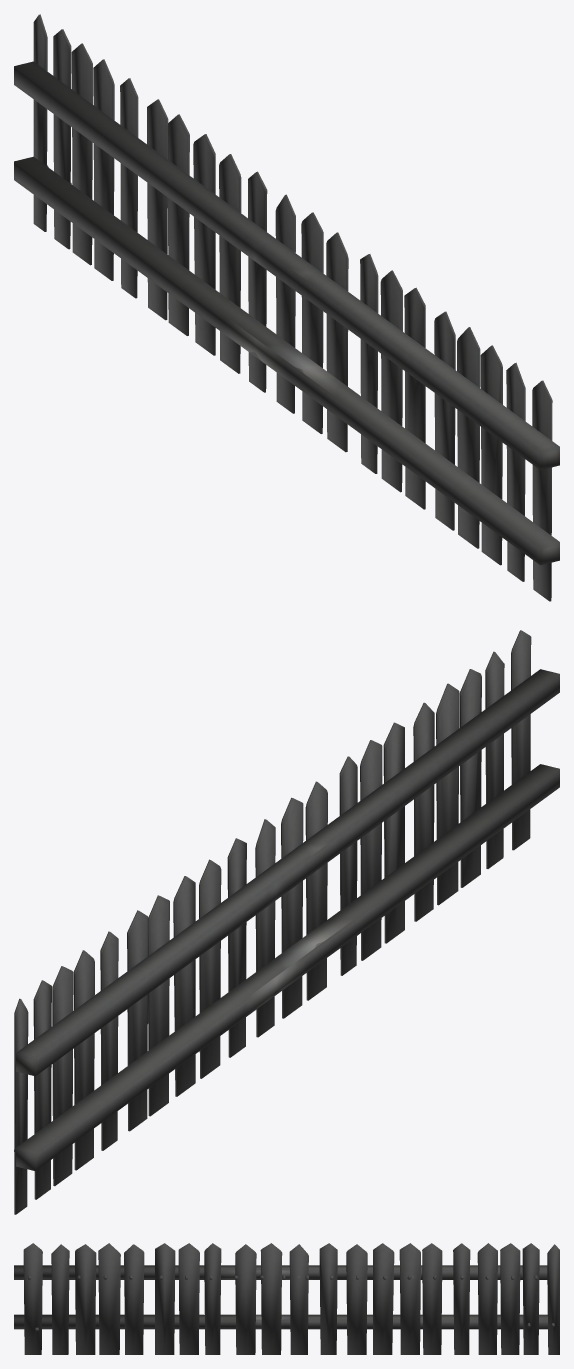
The model's file is tripo_convert_6f730395-0dda-46f6-be83-4b5bc793c71f.fbx.
3 renders of one model, top to bottom at view 1: azimuth 30°, elevation 25°; view 2: azimuth 150°, elevation 25°; view 3: azimuth 270°, elevation 25°, orthographic. The views are drawn at different scales.
Parts seen in each view (by area): view 1: tripo_node_6f730395; view 2: tripo_node_6f730395; view 3: tripo_node_6f730395.
Part boxes in pixels (x1,y1,x2,y2): tripo_node_6f730395: (14,14,559,601); tripo_node_6f730395: (14,630,559,1214); tripo_node_6f730395: (14,1243,559,1354).
Size of the model in its own units: 0.0293 by 0.2246 by 0.998.
Materials: 1 (1 with a texture image).
